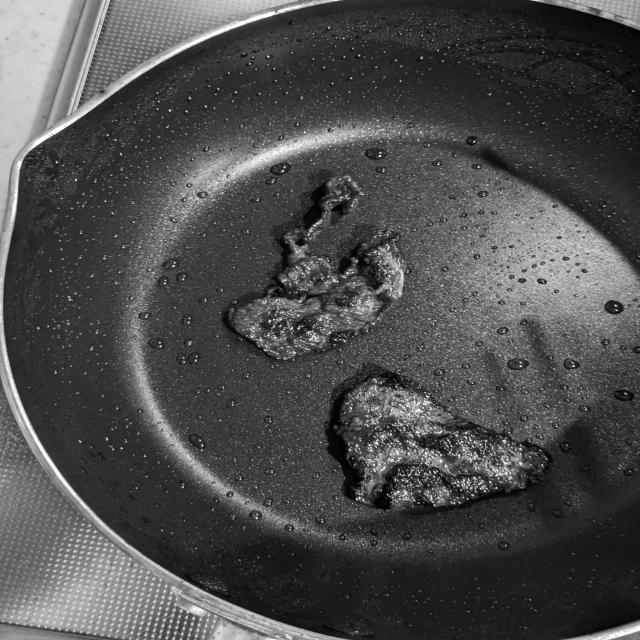overcooked beef,: (206, 167, 418, 366), (322, 372, 569, 516)
